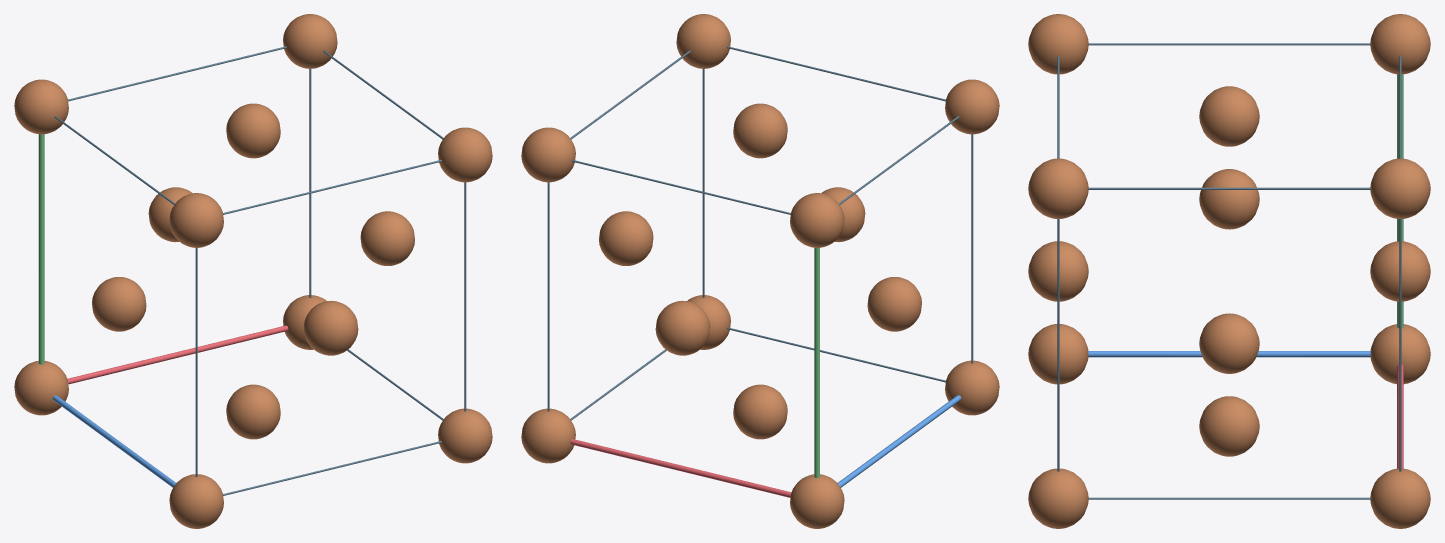
File: nguyen-to-cu.glb
3 renders of one model, left to right at view 1: azimuth 30°, elevation 25°; view 2: azimuth 150°, elevation 25°; view 3: azimuth 270°, elevation 25°, orthographic. The views are drawn at different scales.
Parts seen in each view (by area): view 1: Cu · Cu · 1 (×14), Ô mạng và các trục a, b, c; view 2: Cu · Cu · 1 (×14), Ô mạng và các trục a, b, c; view 3: Cu · Cu · 1 (×14), Ô mạng và các trục a, b, c.
Boxes of the visible parts, <box> form: Cu · Cu · 1 (×14): <box>14,14,492,528</box>; Ô mạng và các trục a, b, c: <box>38,46,466,495</box>; Cu · Cu · 1 (×14): <box>521,14,999,528</box>; Ô mạng và các trục a, b, c: <box>547,46,973,497</box>; Cu · Cu · 1 (×14): <box>1028,14,1430,528</box>; Ô mạng và các trục a, b, c: <box>1057,43,1403,499</box>.
Bounding box in the file's own units: 4.25 × 4.25 × 4.25.
